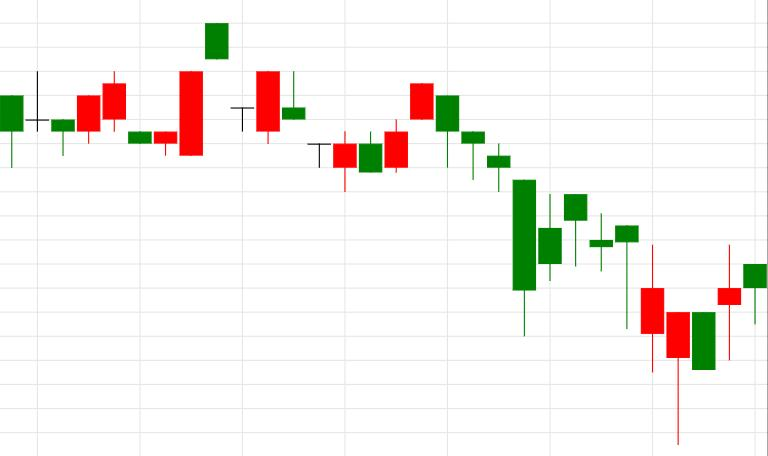hammer_rise: (437, 96, 689, 444)
